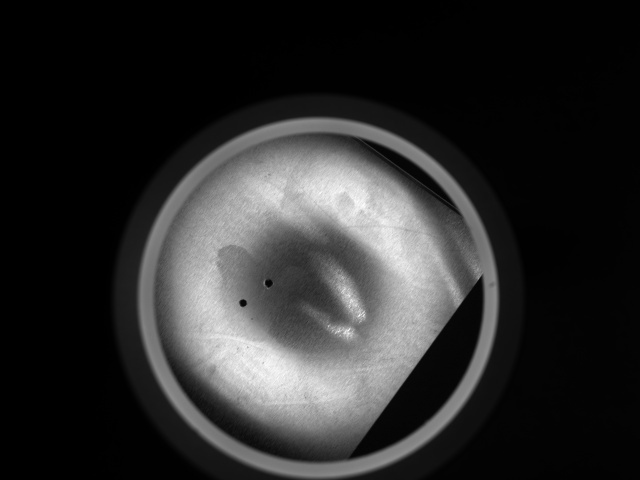zhen_kong: (261, 277, 276, 291), (237, 297, 248, 308)
